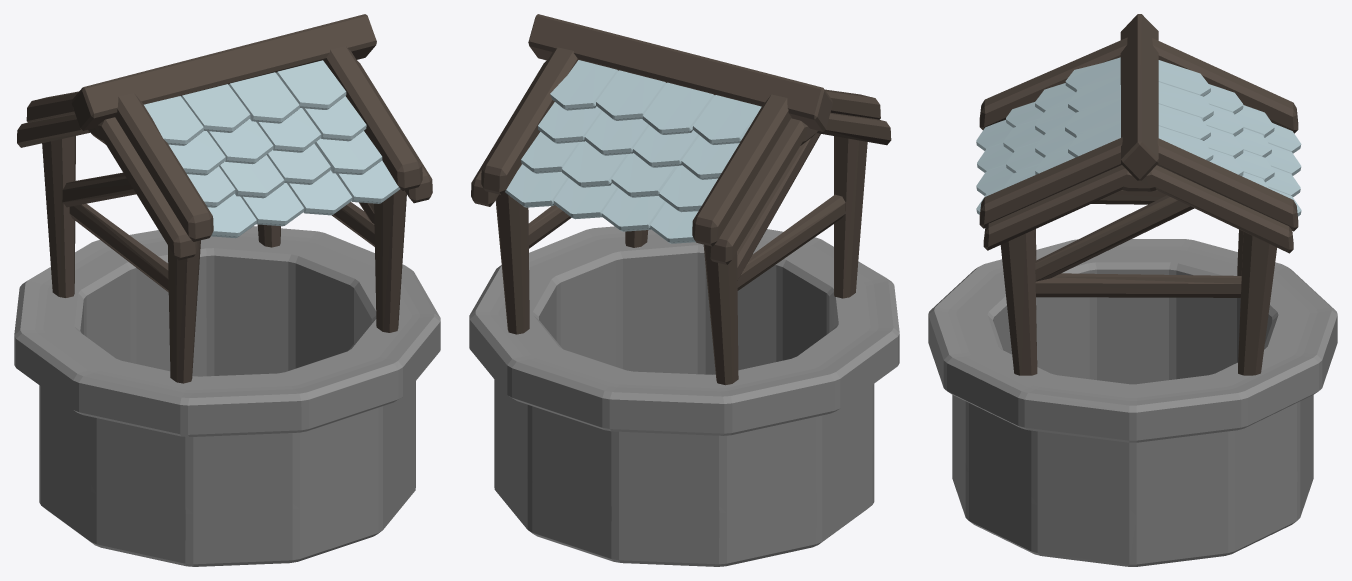
Rendered from waterput.fbx.
The picture shows the model from 3 angles, left to right: view 1: azimuth 30°, elevation 25°; view 2: azimuth 150°, elevation 25°; view 3: azimuth 270°, elevation 25°; orthographic projection. The views are drawn at different scales.
Visible parts, largest first — view 1: polySurface3192; view 2: polySurface3192; view 3: polySurface3192.
Boxes of the visible parts, left/top/right/bottom form: polySurface3192: left=14, top=14, right=440, bottom=566; polySurface3192: left=469, top=14, right=899, bottom=566; polySurface3192: left=928, top=14, right=1337, bottom=566.
Bounding box in the file's own units: 2.58 × 2.94 × 2.61.
